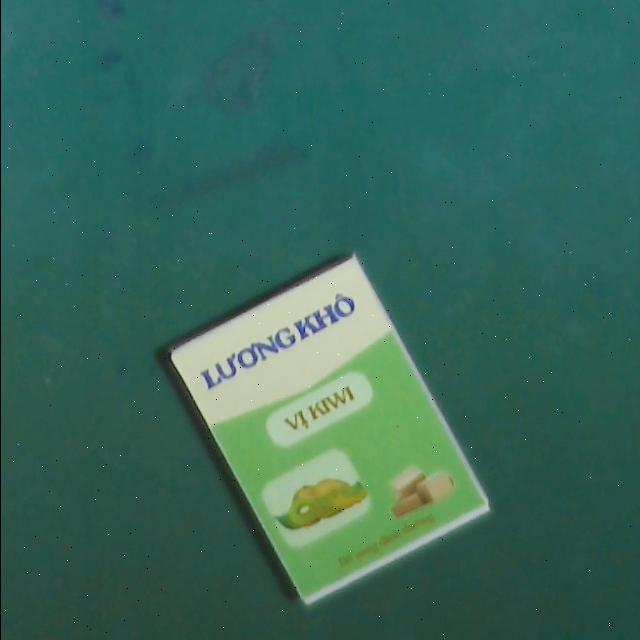kiwi: (164, 250, 492, 610)
